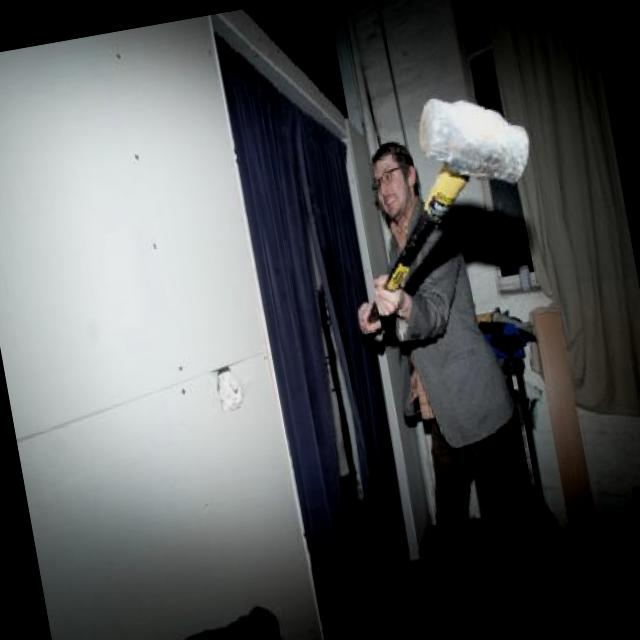Person: (338, 106, 562, 584)
